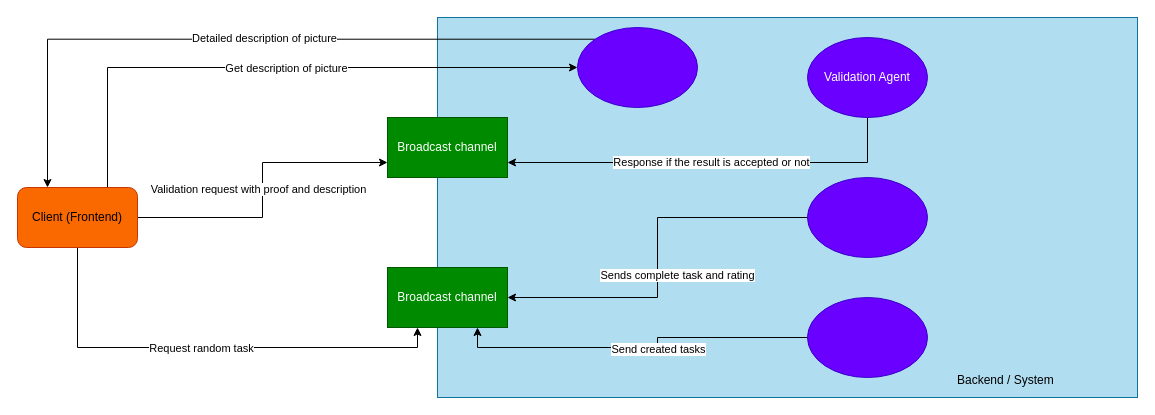
Image size: 1155x415. Some labels were removed from this diagram. Here are the shapes that lost their labels. From the top down, the centre of each, then its label:
At (x=637, y=67): "Photo Agent".
At (x=867, y=217): "Rating Agent".
At (x=867, y=337): "Creation Agent".
